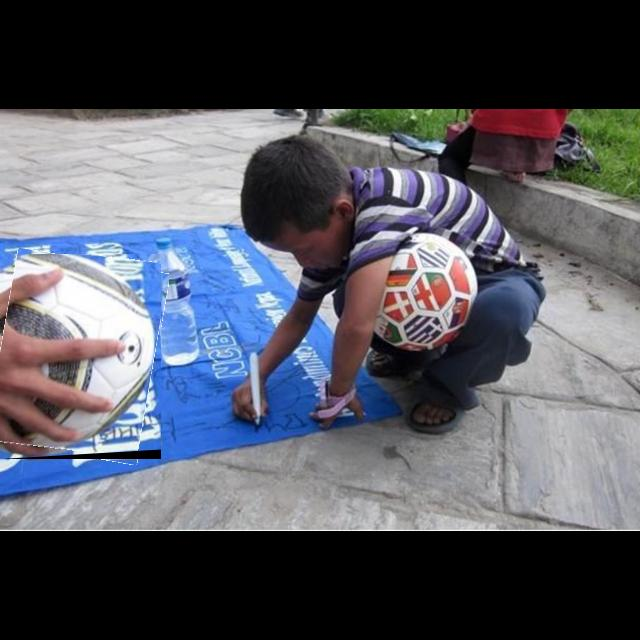Football: (0, 254, 161, 459)
